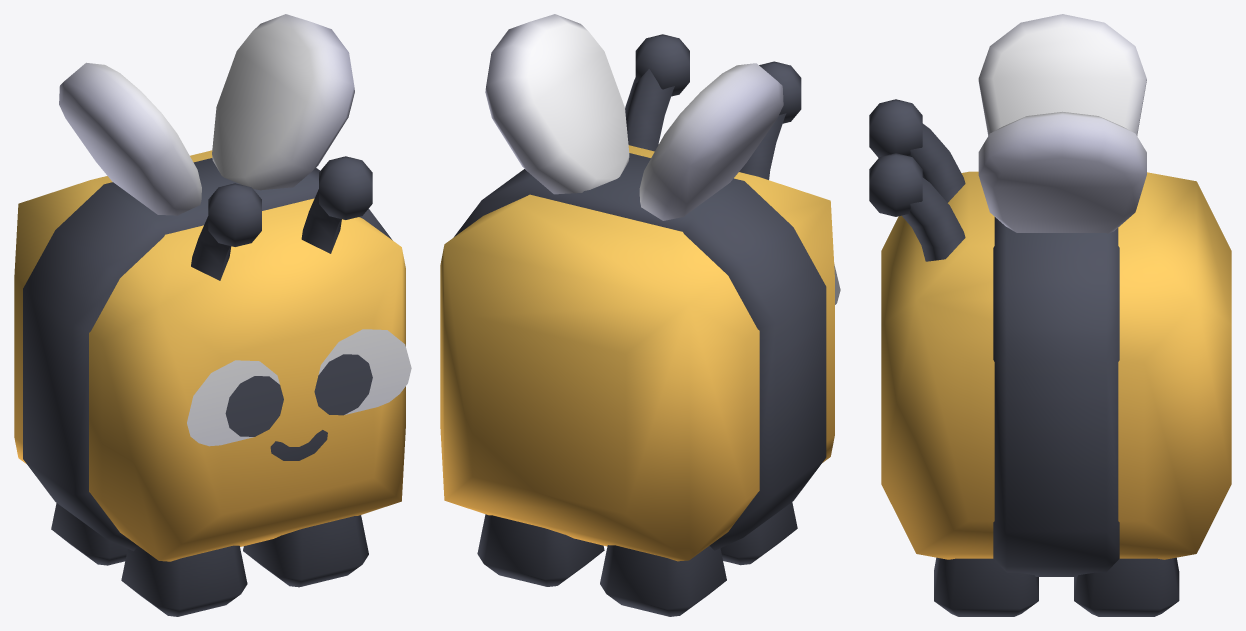
Rendered from cc0-bee-lod0.glb.
3 renders of one model, left to right at view 1: azimuth 30°, elevation 25°; view 2: azimuth 150°, elevation 25°; view 3: azimuth 270°, elevation 25°, orthographic.
Parts seen in each view (by area): view 1: part_1, part_2, part_3, part_7, part_6, part_5; view 2: part_1, part_2, part_3, part_5, part_4, part_7; view 3: part_1, part_2, part_3, part_4, part_6.
Boxes of the visible parts, x1=… form: part_1: x1=14, y1=150, x2=411, y2=561; part_2: x1=212, y1=14, x2=354, y2=190; part_3: x1=59, y1=62, x2=201, y2=215; part_7: x1=121, y1=545, x2=247, y2=616; part_6: x1=243, y1=515, x2=368, y2=587; part_5: x1=51, y1=503, x2=127, y2=565; part_1: x1=440, y1=34, x2=840, y2=561; part_2: x1=485, y1=14, x2=629, y2=194; part_3: x1=639, y1=63, x2=783, y2=220; part_5: x1=600, y1=545, x2=726, y2=616; part_4: x1=477, y1=514, x2=604, y2=586; part_7: x1=720, y1=502, x2=797, y2=565; part_1: x1=869, y1=99, x2=1231, y2=576; part_2: x1=978, y1=111, x2=1146, y2=233; part_3: x1=978, y1=14, x2=1146, y2=135; part_4: x1=1074, y1=557, x2=1179, y2=616; part_6: x1=934, y1=557, x2=1038, y2=616.
Bounding box in the file's own units: 1.33 × 2 × 1.29.
1 material, 1 textured.
